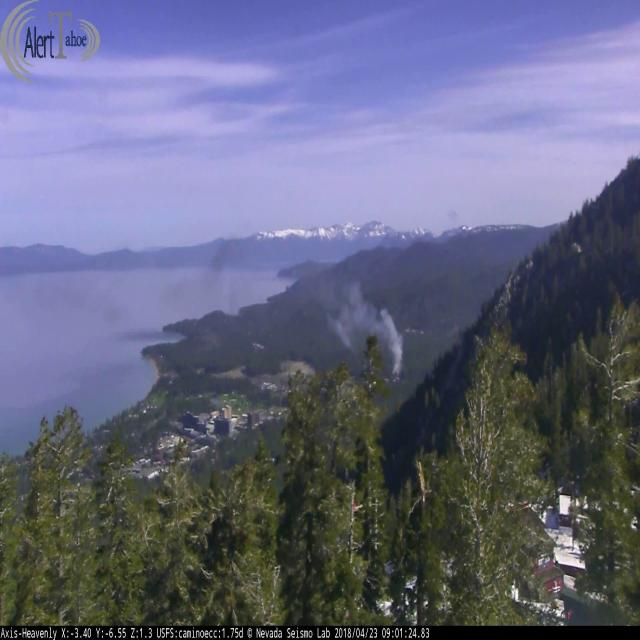smoke: (313, 260, 404, 378)
